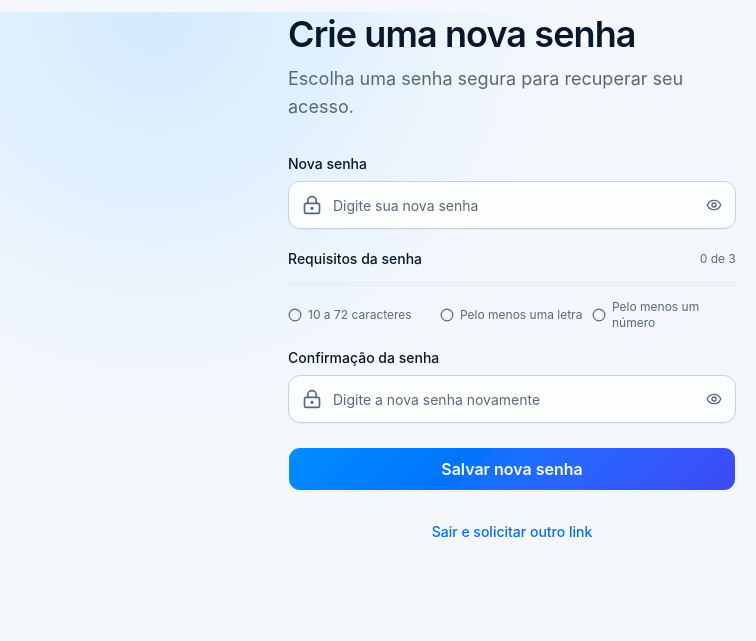
Test: UpdatePasswordForm › shows safe feedback for update_failed
Type "nova-senha1" into the password field labelled "Nova senha". click: (512, 205)
box: [288, 181, 736, 229]
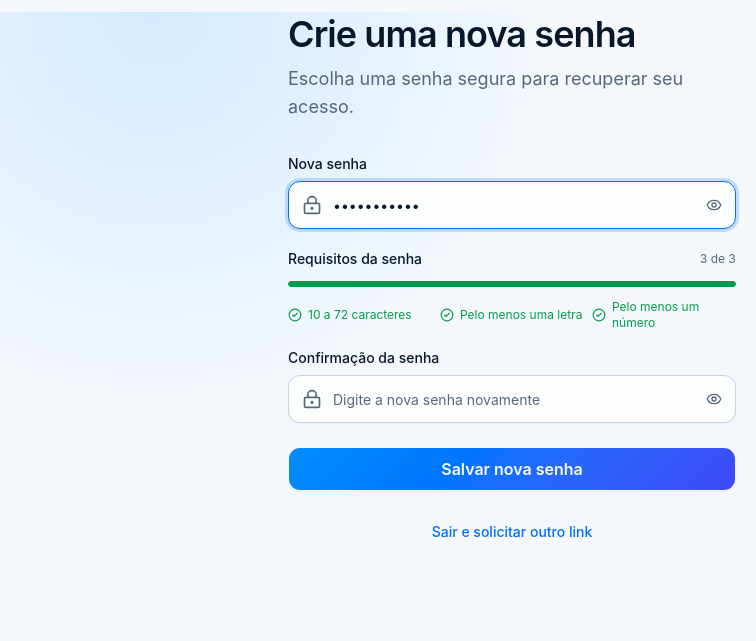
Type "nova-senha1" into the password field labelled "Confirmação da senha". click: (512, 399)
box: [288, 375, 736, 423]
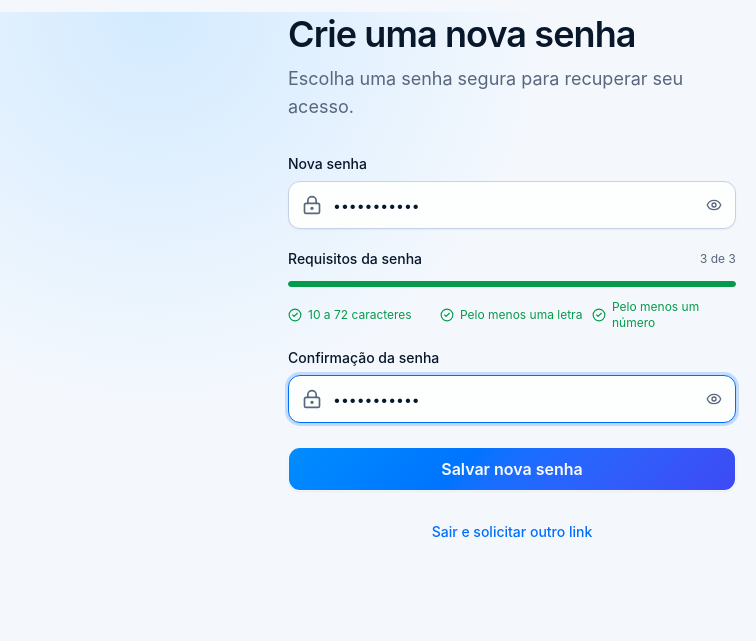
Click the button "Salvar nova senha". click: click(512, 469)
box: [288, 447, 736, 491]
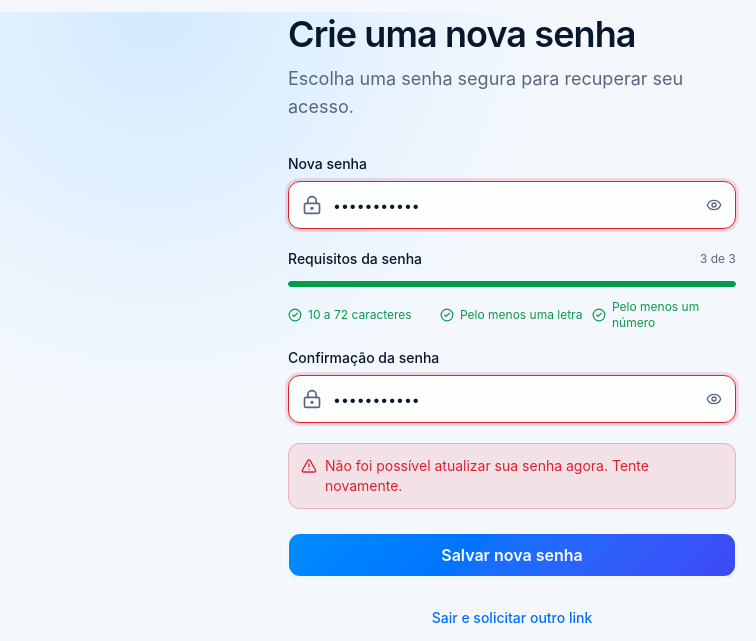
Result: the message shows "Não foi possível atualizar sua senha" at [325, 457, 649, 494]
